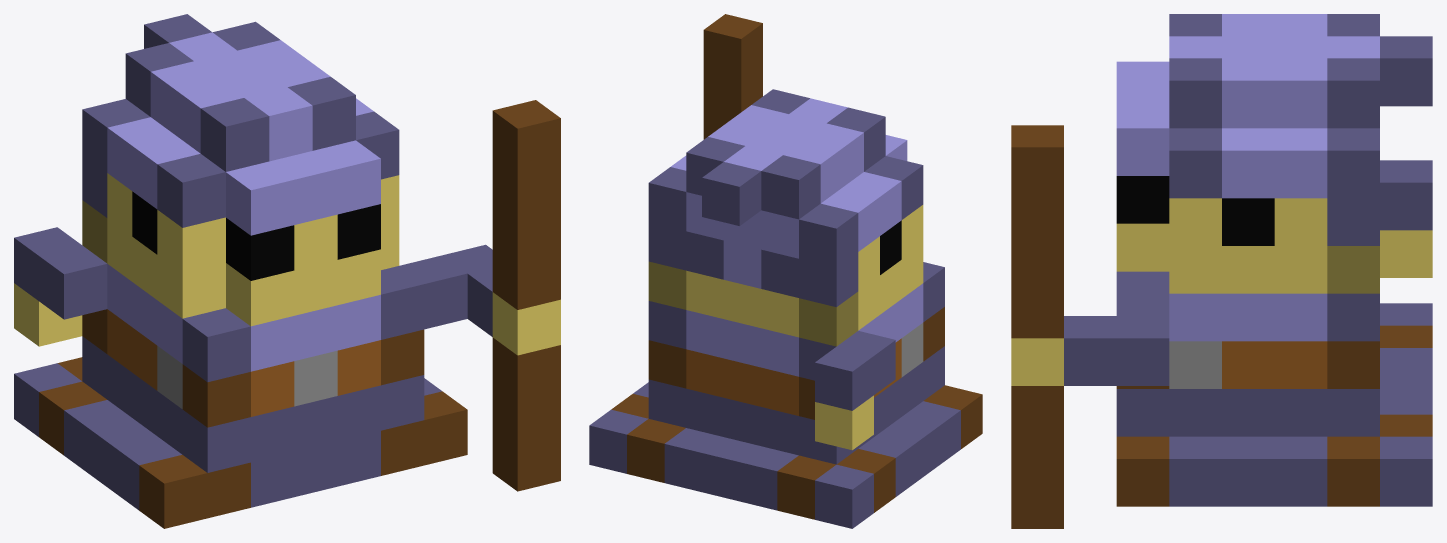
Rendered from Wizard.obj.
3 views of the same model, side by side, from view 1: azimuth 30°, elevation 25°; view 2: azimuth 150°, elevation 25°; view 3: azimuth 270°, elevation 25° (orthographic). The views are drawn at different scales.
Size of the model in its own units: 8 by 8 by 8.
1 material, 1 textured.
